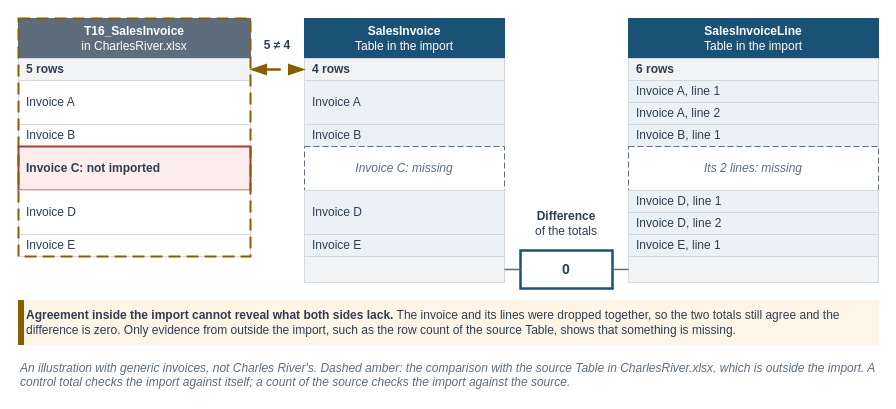
Some shapes in this 896 by 409 pixel diagram are drawn without their labels. Here are the shapes that lost their labels. From the top down, the centre of each, then its label:
pixel 404 269: SUM(SubTotal)
pixel 753 269: SUM(LineTotal)
